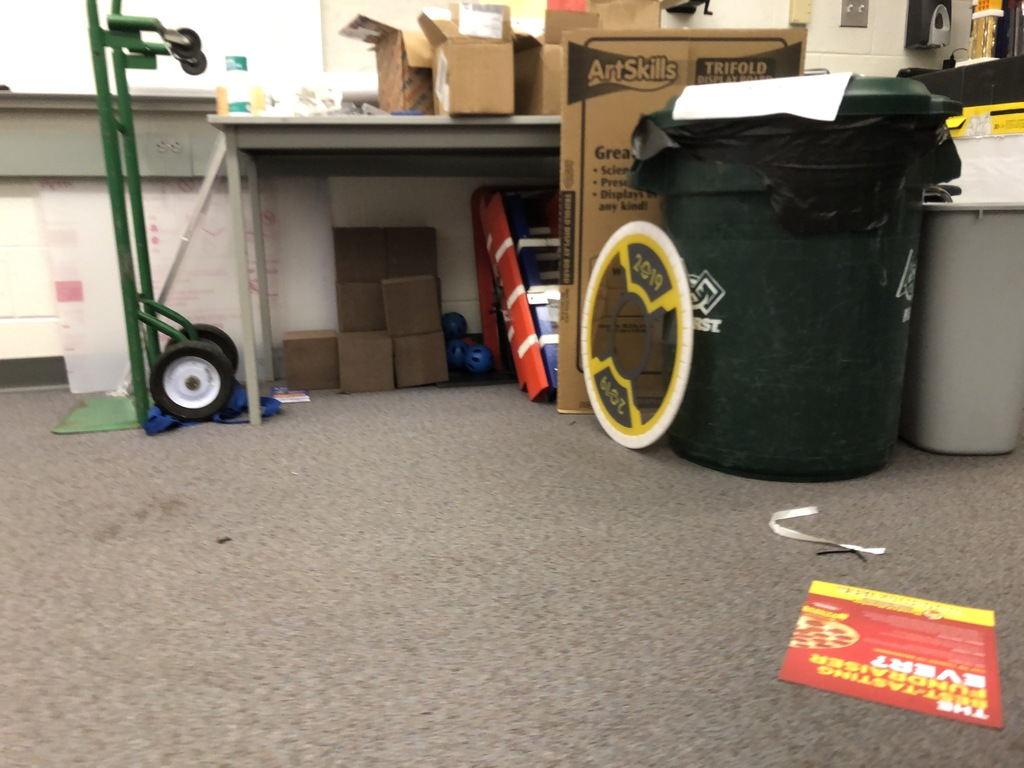hatch_panel: (573, 201, 697, 458)
